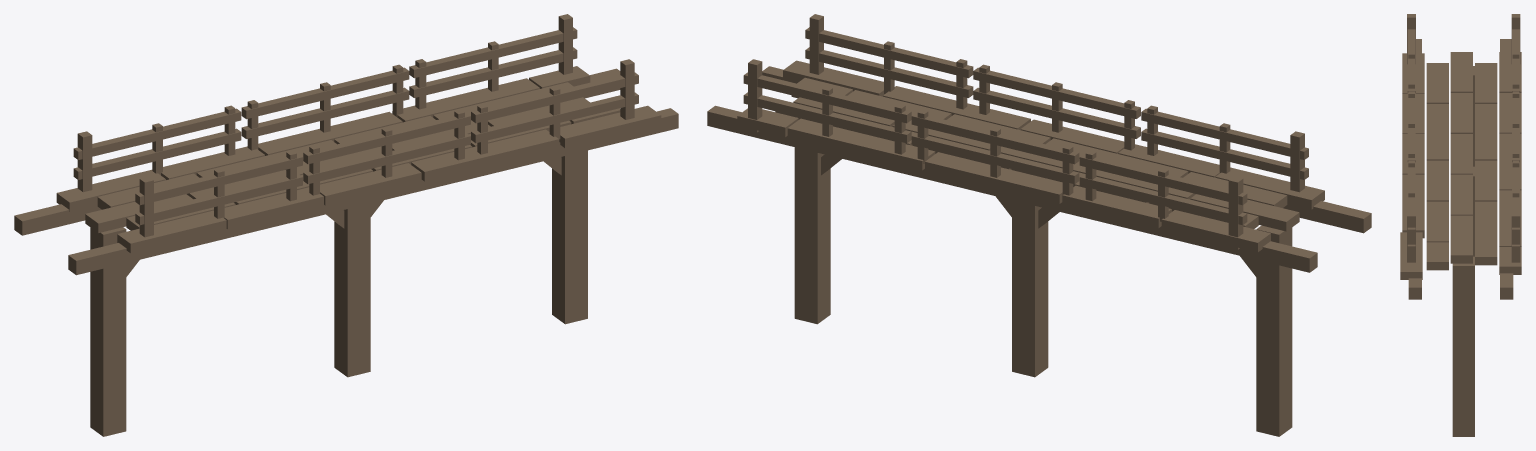
Rendered from Wood_Bridge02.fbx.
3 renders of one model, left to right at view 1: azimuth 30°, elevation 25°; view 2: azimuth 150°, elevation 25°; view 3: azimuth 270°, elevation 25°, orthographic. The views are drawn at different scales.
Visible parts, largest first — view 1: Wood_Bridge02; view 2: Wood_Bridge02; view 3: Wood_Bridge02.
Boxes of the visible parts, x1,y1,x2,y2 form: Wood_Bridge02: (14,14,678,436); Wood_Bridge02: (707,14,1371,436); Wood_Bridge02: (1400,14,1521,436).
Bounding box in the file's own units: 11.28 × 4.84 × 2.32.
